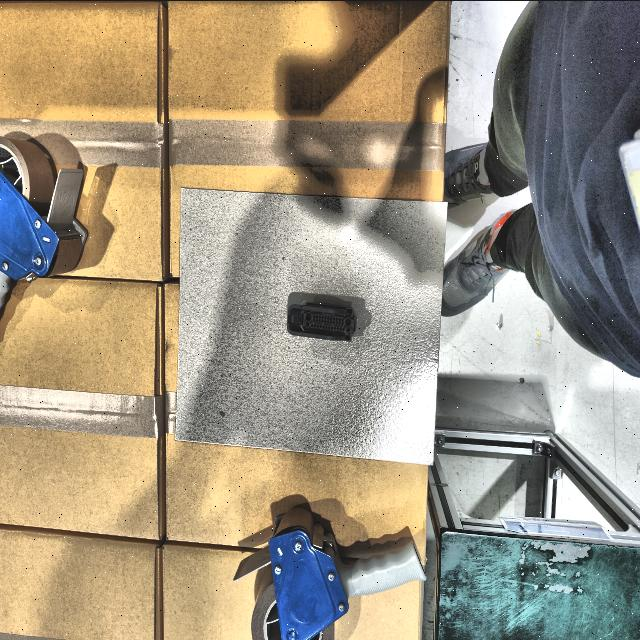P38: (287, 301, 356, 340)
